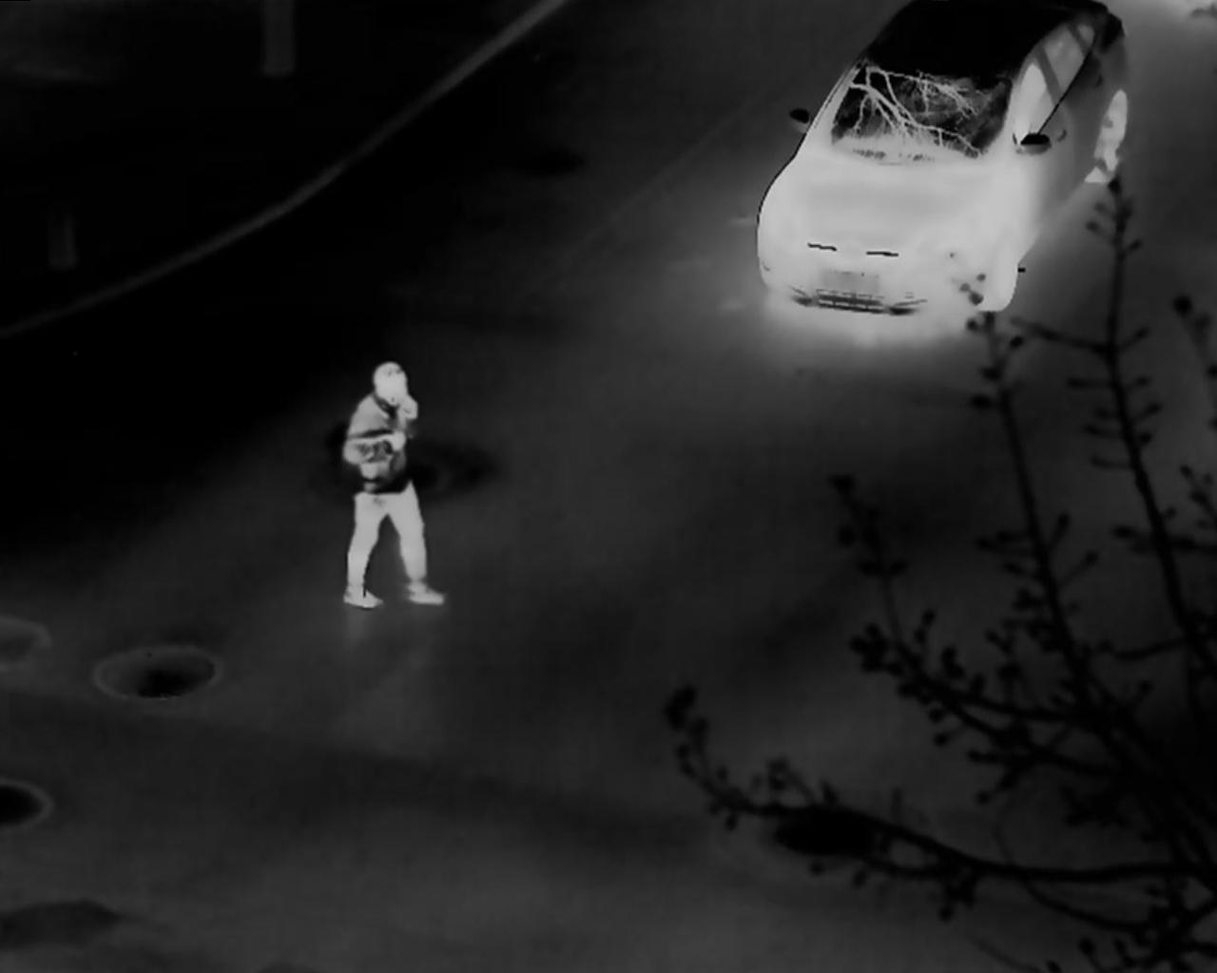person: (343, 361, 446, 608)
